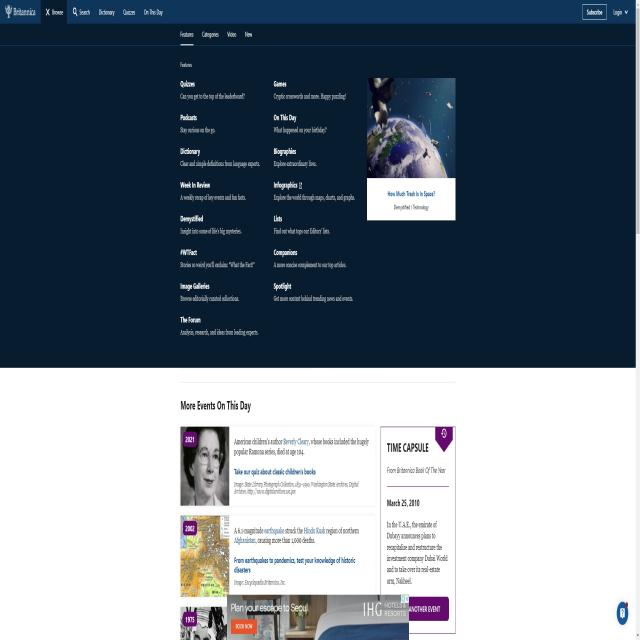tab-bar: (176, 28, 258, 45)
